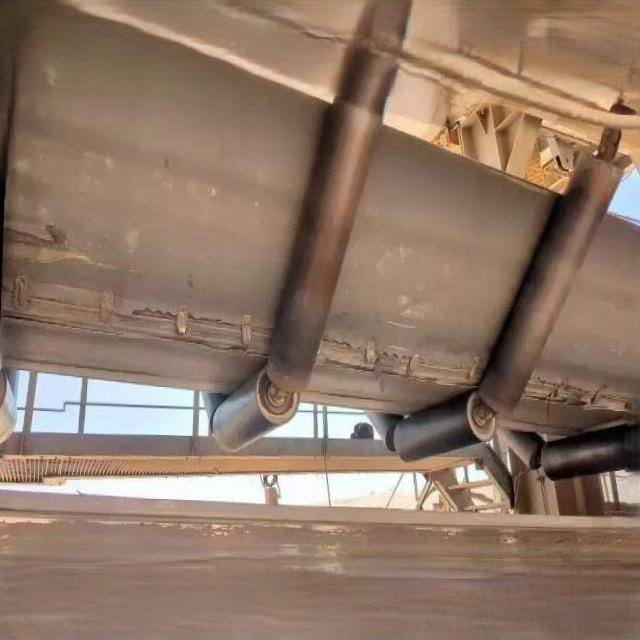Tear: (0, 277, 276, 365), (317, 326, 487, 392), (523, 364, 640, 417)
Wear: (0, 205, 114, 275)
